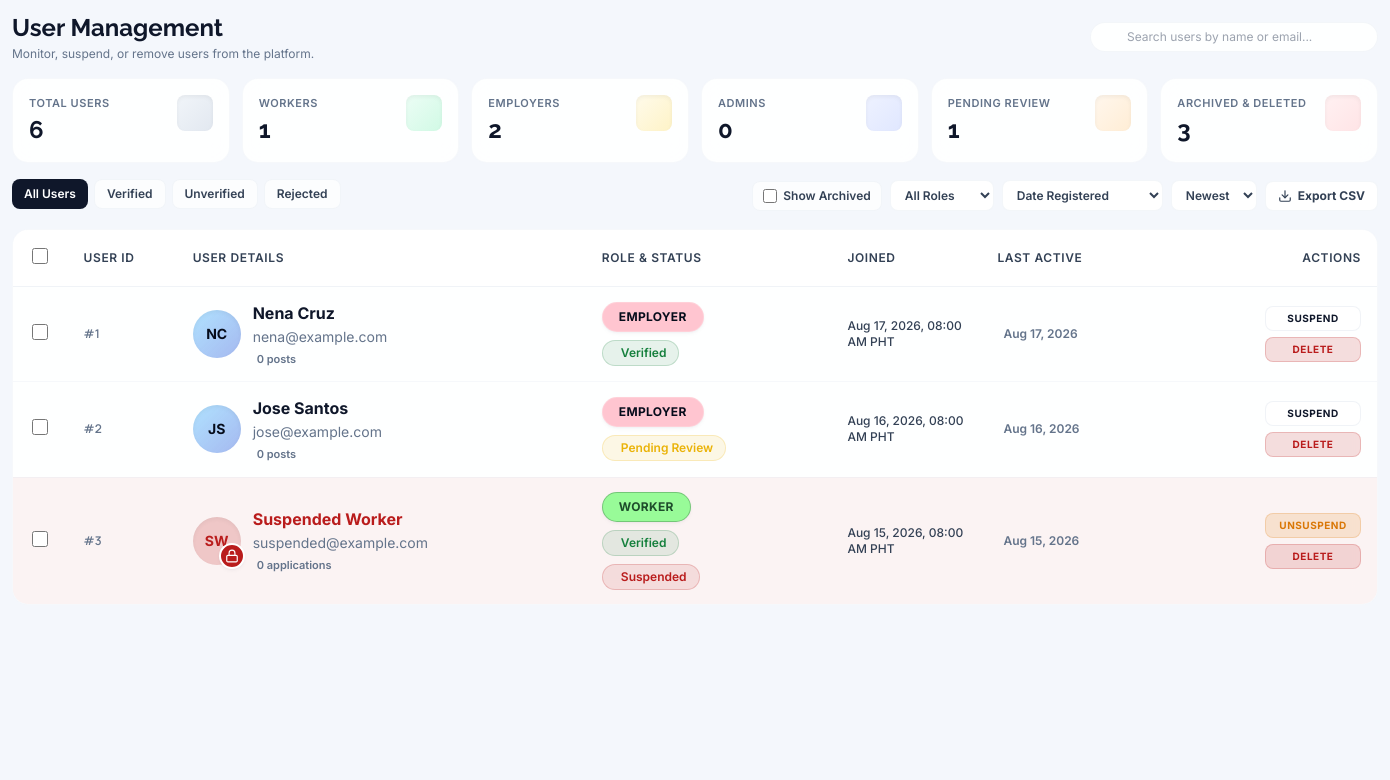
Test: UsersPage Component › only displays applicable bulk actions when selecting users
Expected: the text "Nena Cruz" is shown, [253,300,335,324]
Expected: the text "Suspended Worker" is shown, [253,507,402,531]
Select active user Nena Cruz (id: 1, not suspended)
Click the checkbox named "select user nena cruz": [40, 332] box [32,324,48,340]
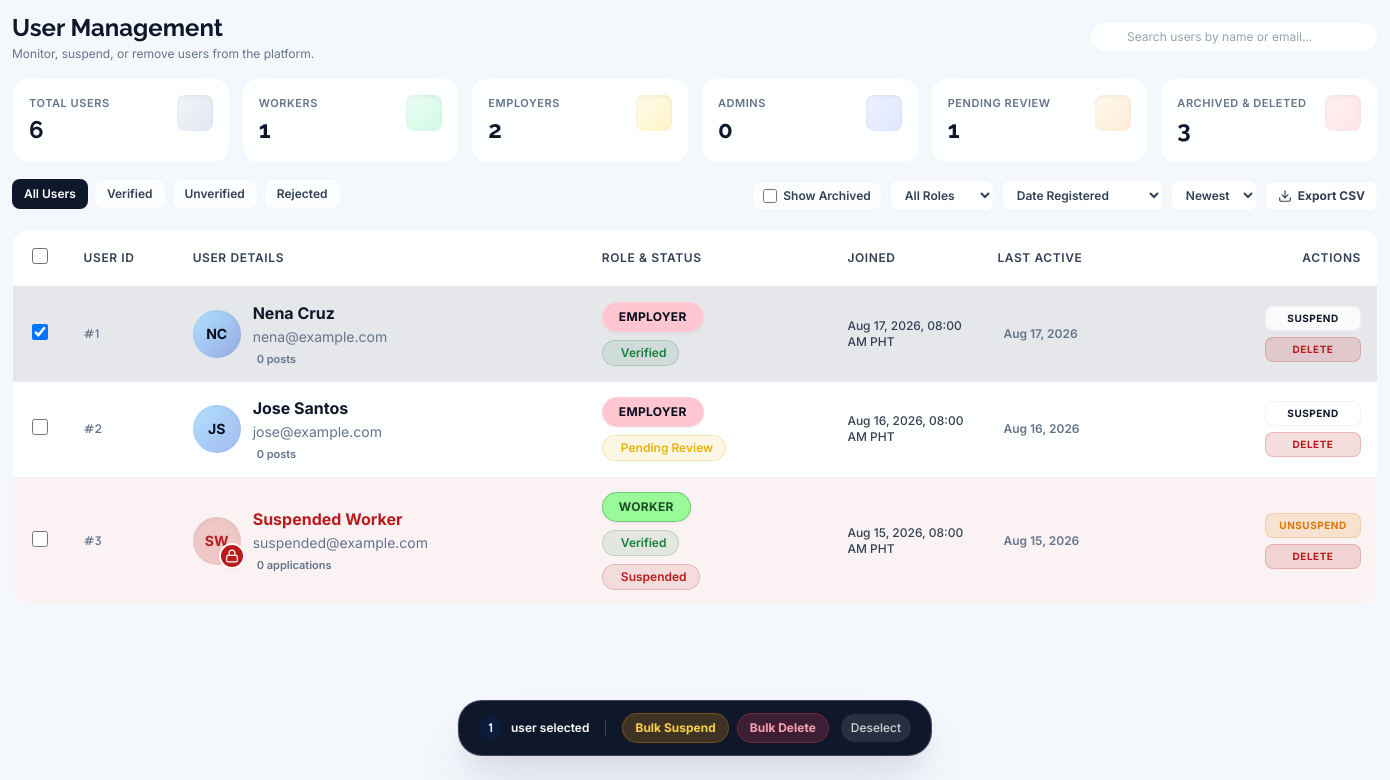
Expected: the text "user selected" is shown, [511,720,589,736]
Expected: the button "Bulk Suspend" is shown, [622,713,729,743]
Expected: the button "Bulk Delete" is shown, [737,713,829,743]
Deselect Nena Cruz
Click the checkbox named "select user nena cruz": [40, 332] box [32,324,48,340]
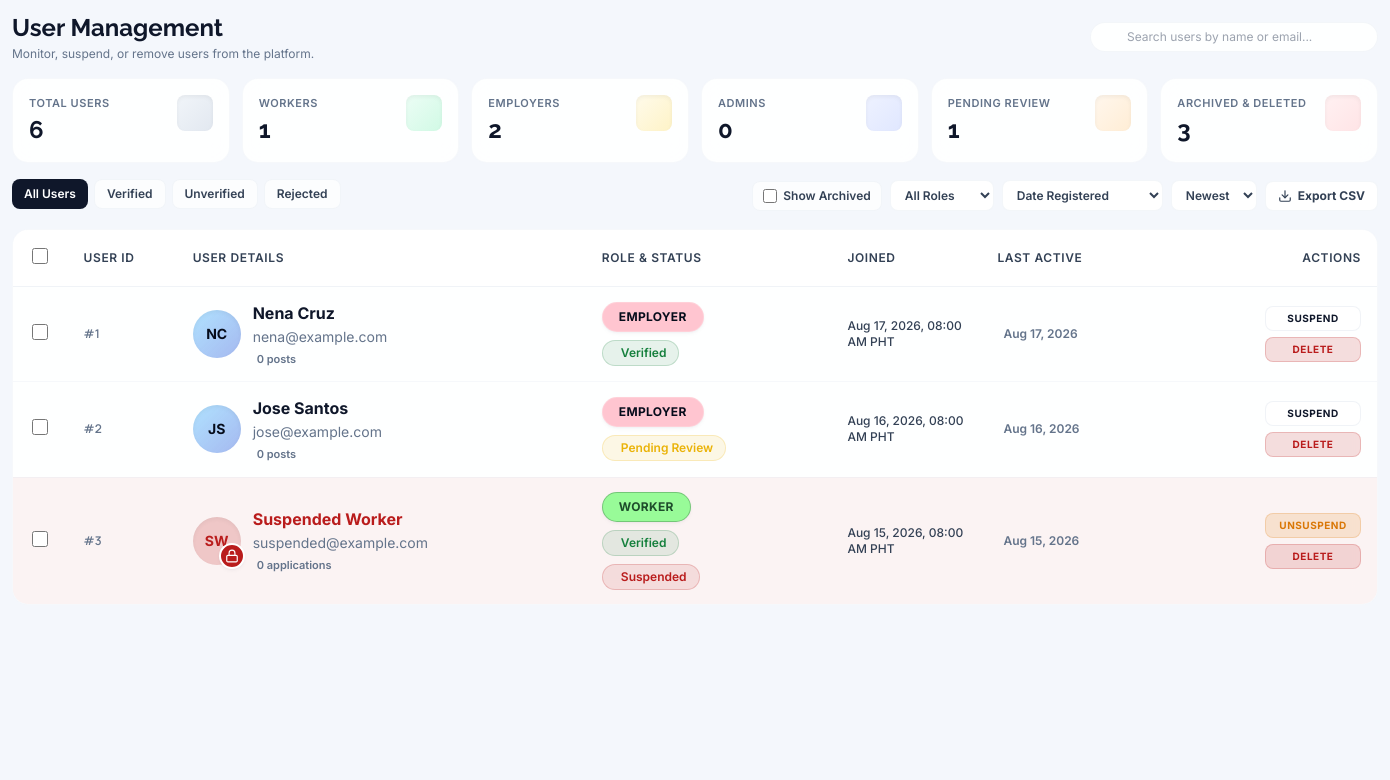
Expected: the text "user selected" is gone
Select suspended user (id: 3, suspended)
Click the checkbox named "select user suspended worker": [40, 538] box [32,530,48,546]
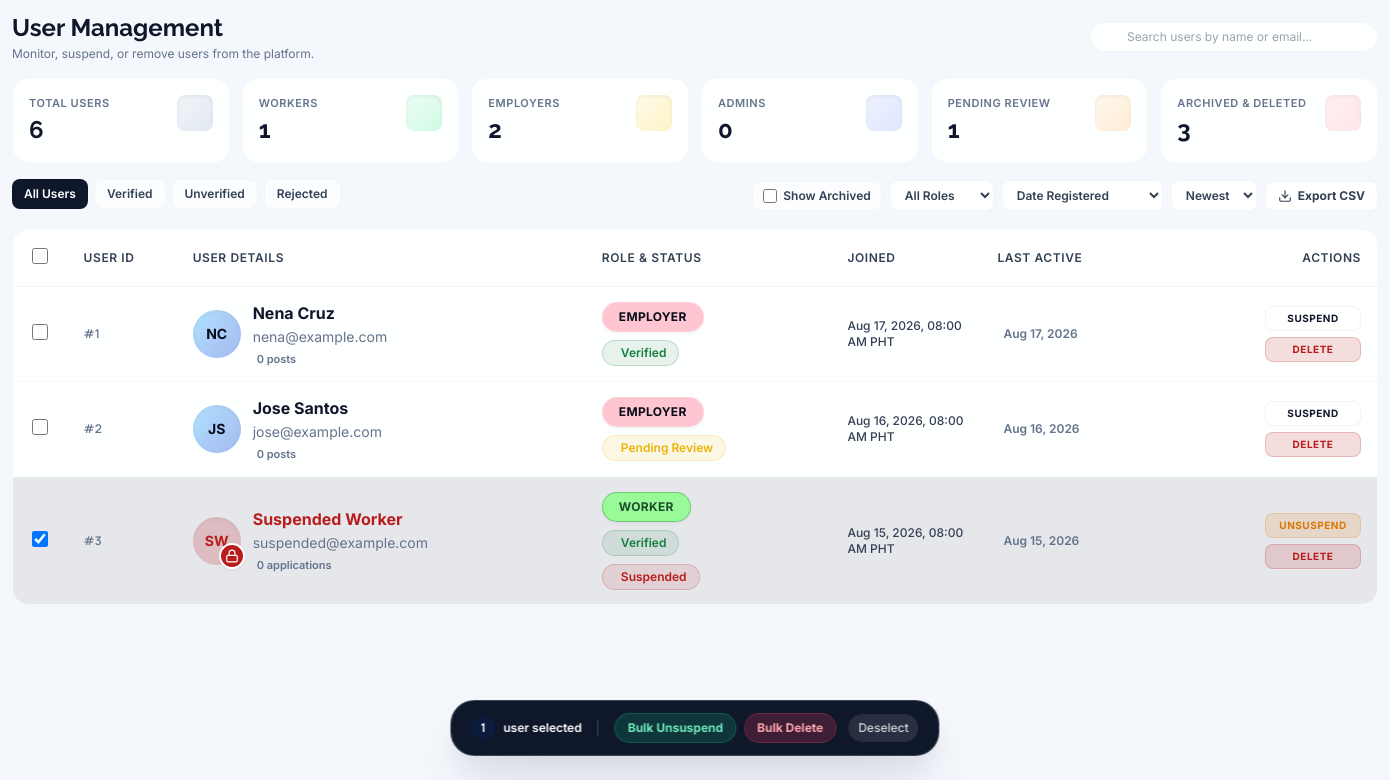
Expected: the text "user selected" is shown, [503,720,582,736]
Expected: the button "Bulk Unsuspend" is shown, [615,713,736,743]
Expected: the button "Bulk Delete" is shown, [744,713,836,743]
